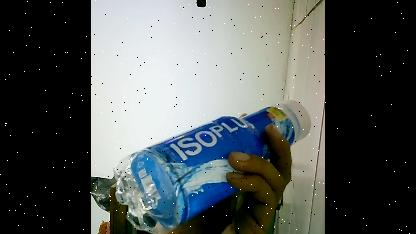Plastic Bottle: (101, 86, 315, 234)
